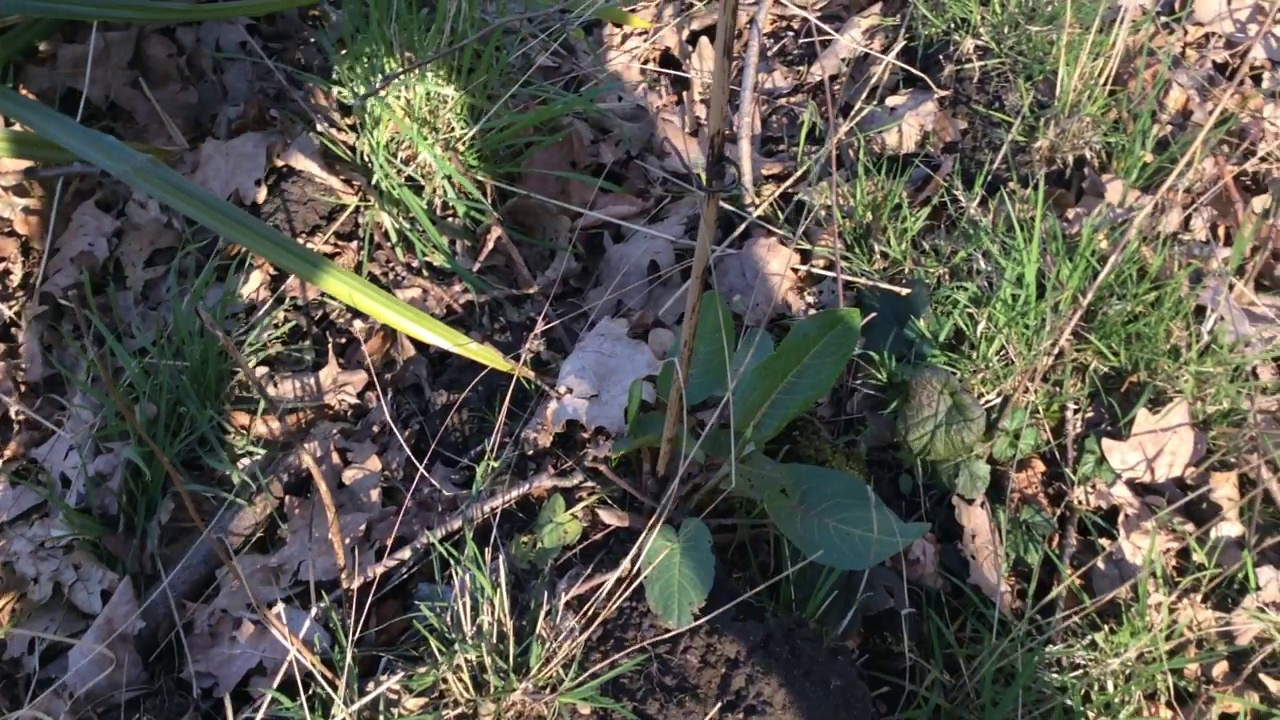rumex: (538, 291, 925, 630)
